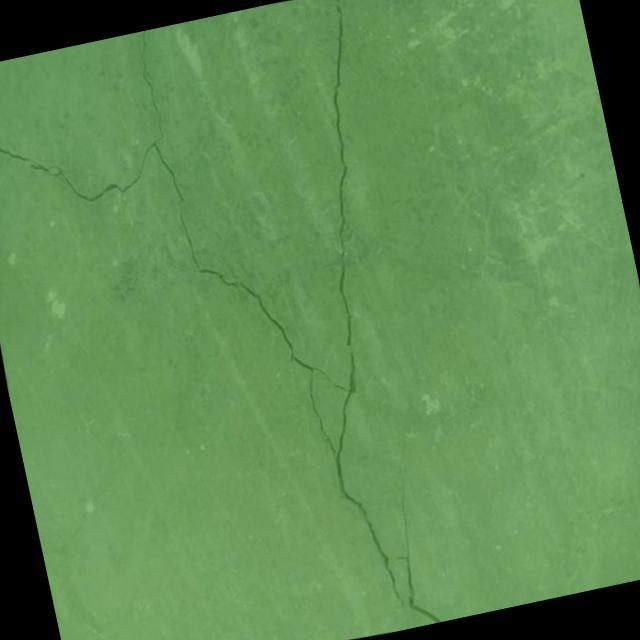crack: (0, 0, 471, 640), (402, 612, 412, 629)
